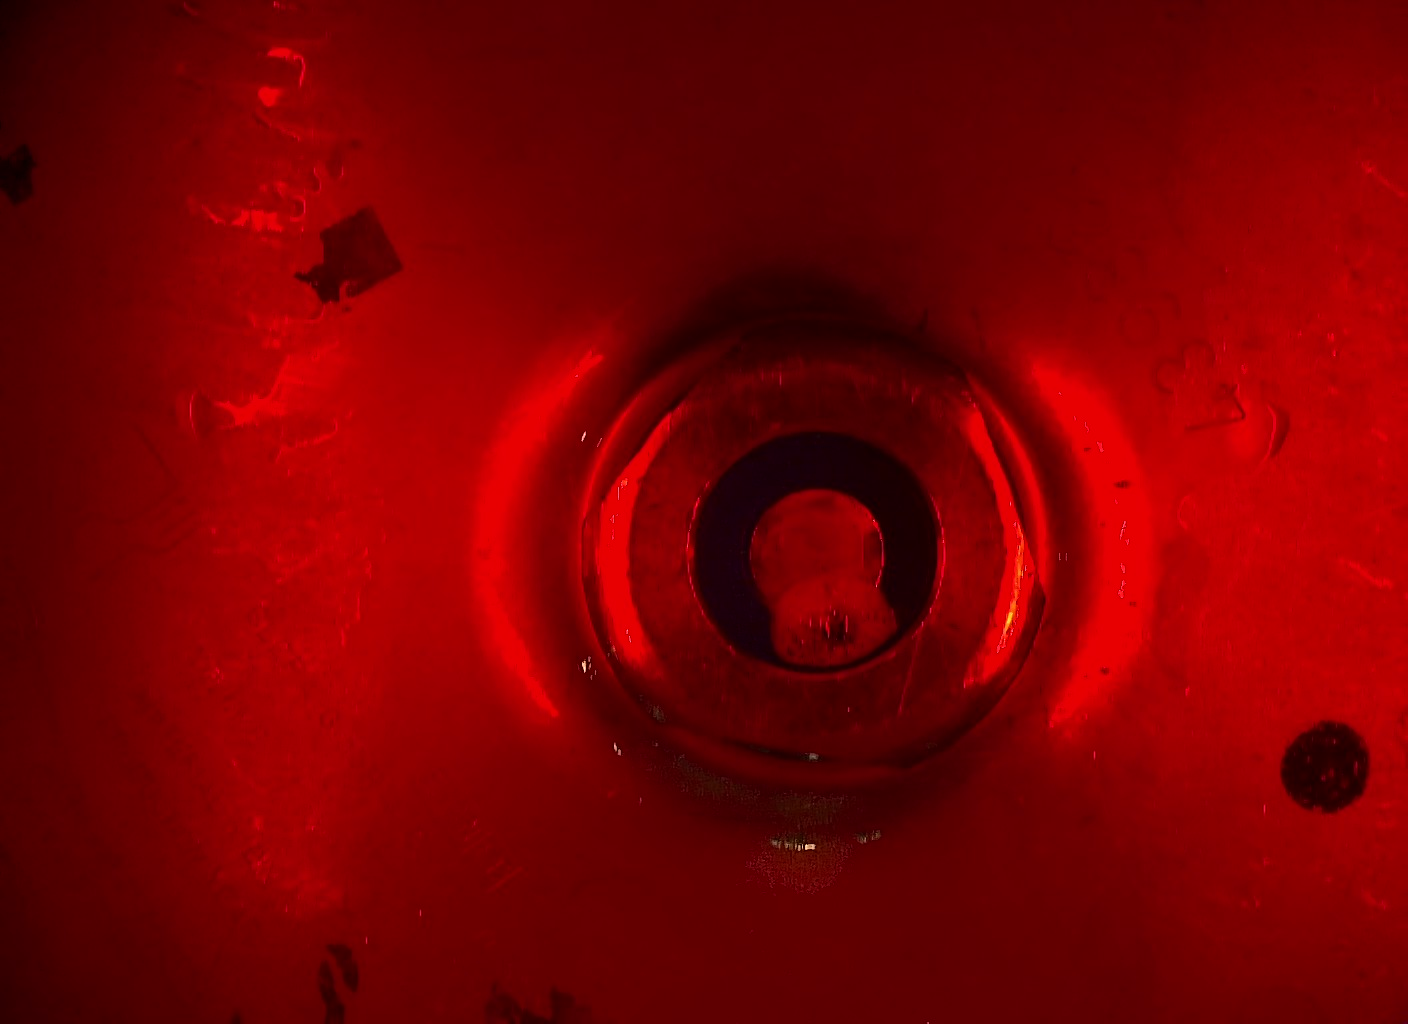pena: (753, 564, 910, 697)
